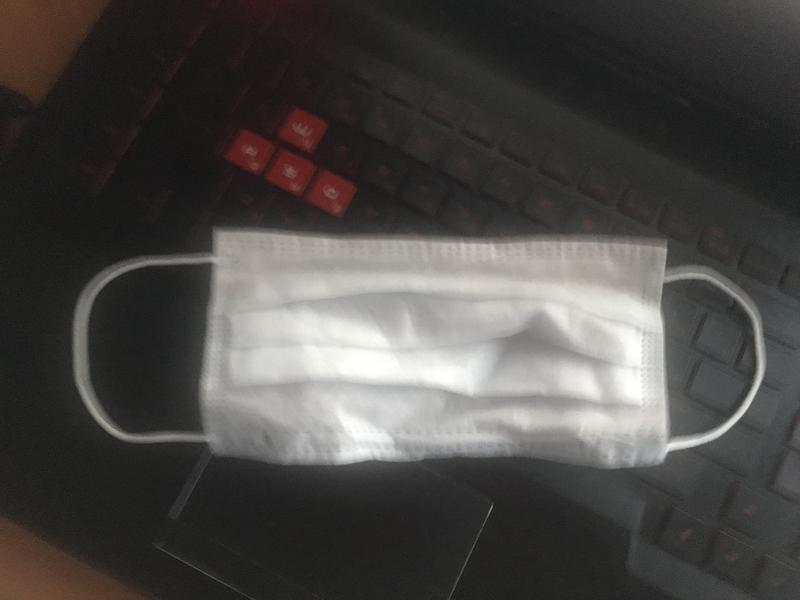medical_mask: (74, 232, 762, 468)
